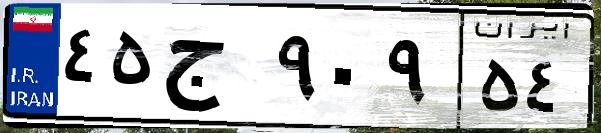0: (330, 28, 385, 110)
4: (57, 26, 110, 100), (525, 38, 570, 115)
5: (475, 38, 525, 113), (110, 28, 158, 98)
9: (270, 28, 330, 110), (385, 28, 445, 110)
ج: (158, 20, 270, 120)
